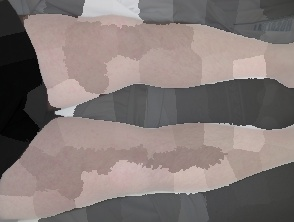SJS-TEN: (0, 105, 294, 222), (12, 0, 294, 117)
